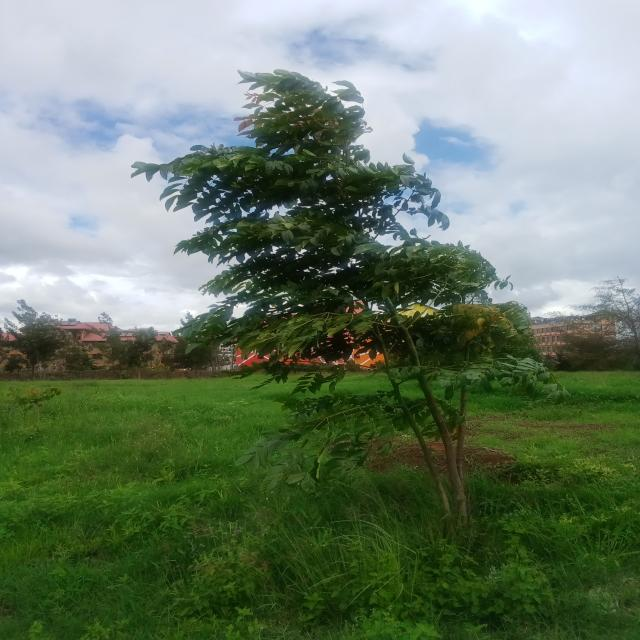Polyscias Kikuyensis: (132, 60, 566, 542)
